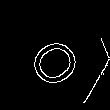O_NE: (19, 24, 87, 88)
